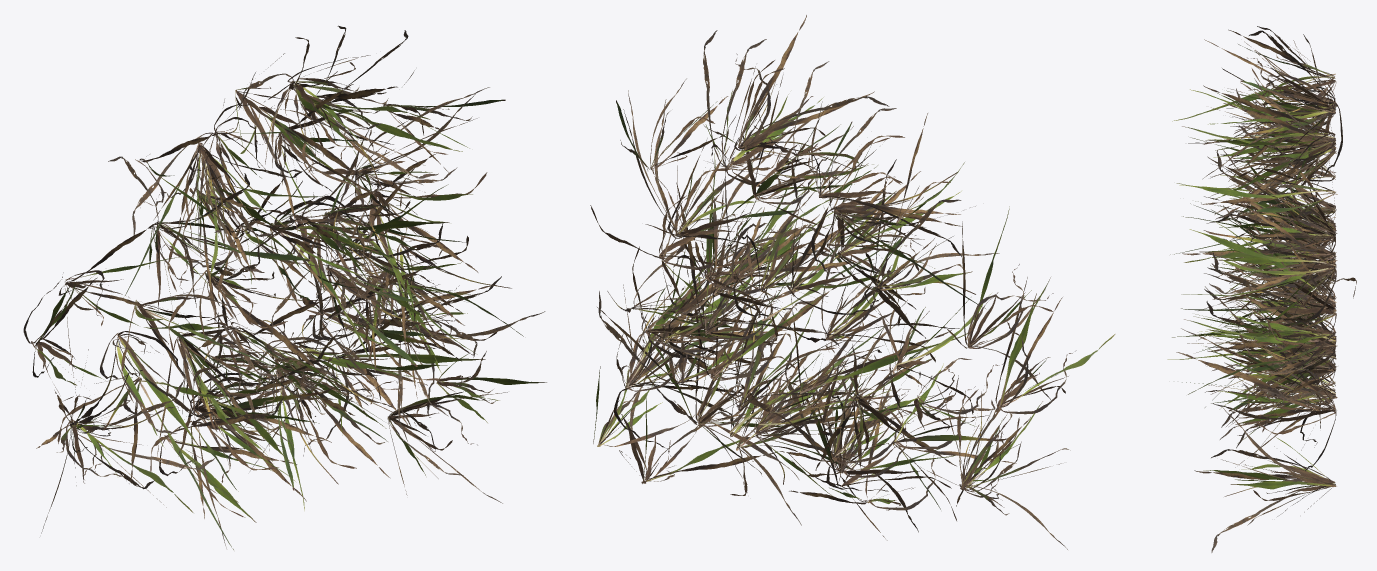
File: Grass_03_Var1_LOD2.fbx
The picture shows the model from 3 angles, left to right: view 1: azimuth 30°, elevation 25°; view 2: azimuth 150°, elevation 25°; view 3: azimuth 270°, elevation 25°; orthographic projection. The views are drawn at different scales.
Visible parts, largest first — view 1: Var1_LOD2; view 2: Var1_LOD2; view 3: Var1_LOD2.
Boxes of the visible parts, x1,y1,x2,y2 form: Var1_LOD2: (23,25,546,549); Var1_LOD2: (590,15,1115,549); Var1_LOD2: (1167,26,1356,552).
Size of the model in its own units: 69.16 by 64.9 by 26.33.
